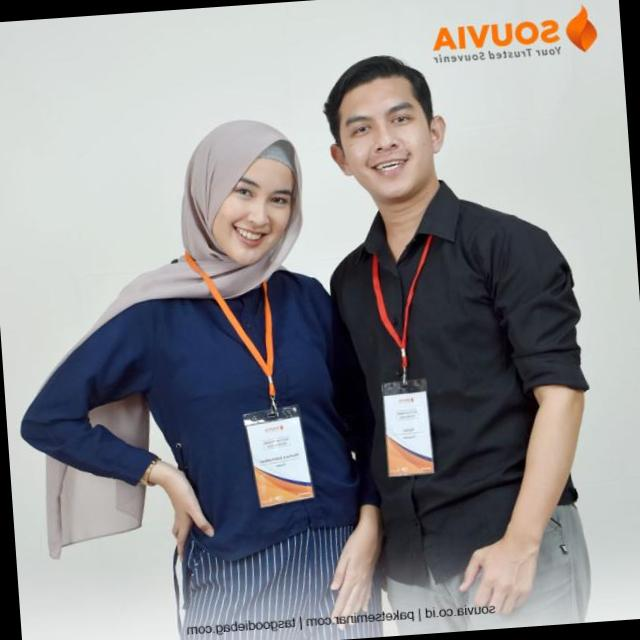id_card: (189, 237, 320, 509), (353, 200, 454, 480)
